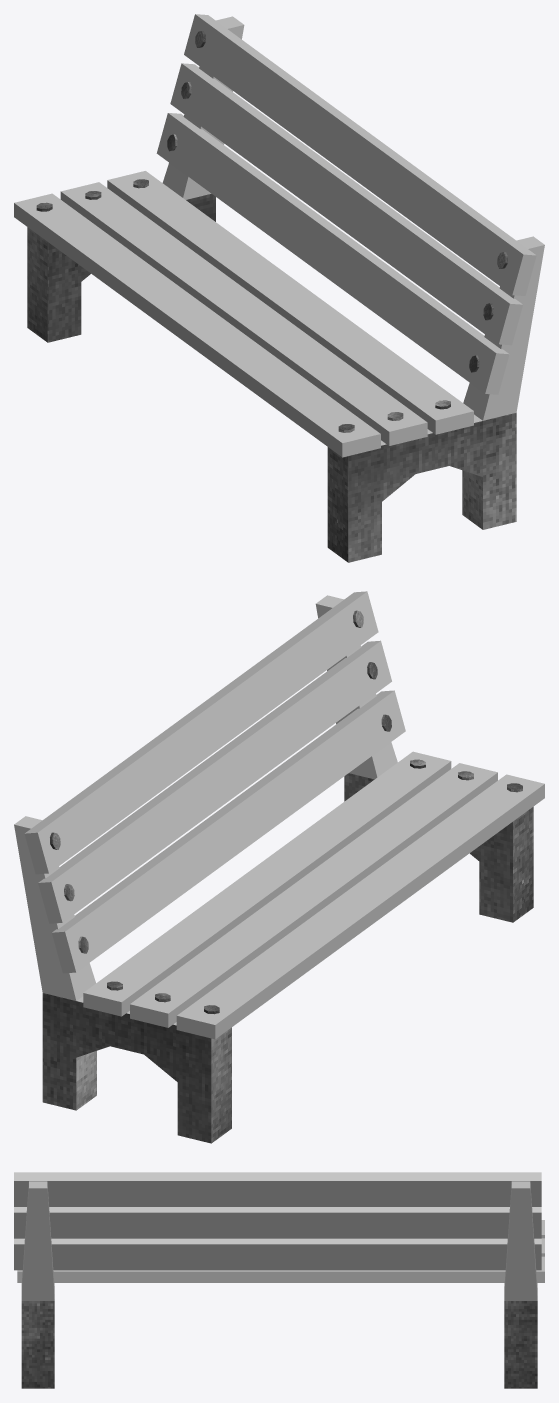
The model's file is bench.fbx.
3 renders of one model, top to bottom at view 1: azimuth 30°, elevation 25°; view 2: azimuth 150°, elevation 25°; view 3: azimuth 270°, elevation 25°, orthographic. The views are drawn at different scales.
Visible parts, largest first — view 1: Cube; view 2: Cube; view 3: Cube.
Part boxes in pixels (bbox=[...]): Cube: bbox=[14, 14, 544, 562]; Cube: bbox=[14, 591, 544, 1143]; Cube: bbox=[14, 1172, 544, 1388].
Size of the model in its own units: 119 by 146 by 324.
